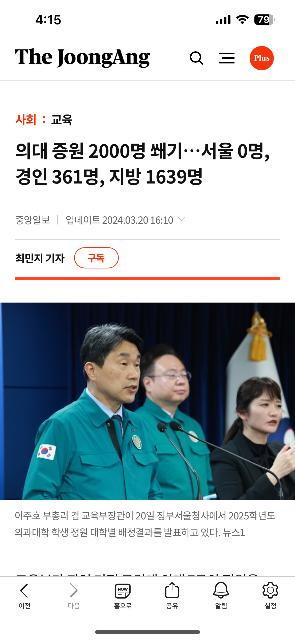Bottom_Navigation: (0, 576, 295, 639)
Icon: (214, 582, 230, 598), (166, 582, 180, 598), (264, 582, 278, 598), (220, 51, 236, 64), (116, 584, 130, 598), (190, 51, 204, 64), (20, 584, 28, 598), (70, 583, 78, 597), (178, 217, 186, 221)
Image: (0, 302, 295, 499)
ImageButton: (250, 46, 274, 70)
Text: (17, 142, 272, 184), (15, 512, 275, 536), (16, 48, 151, 68), (67, 214, 173, 226), (16, 114, 72, 126), (17, 253, 66, 264), (17, 216, 49, 227), (88, 253, 104, 263), (114, 602, 132, 610), (216, 603, 228, 609), (167, 603, 178, 609), (68, 603, 79, 609), (266, 603, 276, 609), (20, 603, 30, 609)
TextButton: (74, 248, 120, 268)
TextImageButton: (114, 583, 132, 609), (214, 582, 230, 608), (263, 582, 279, 608), (166, 582, 180, 610), (68, 583, 79, 609), (20, 584, 30, 610)
Toolbar: (0, 43, 295, 81)
UpperTaskBar: (0, 0, 295, 42)
